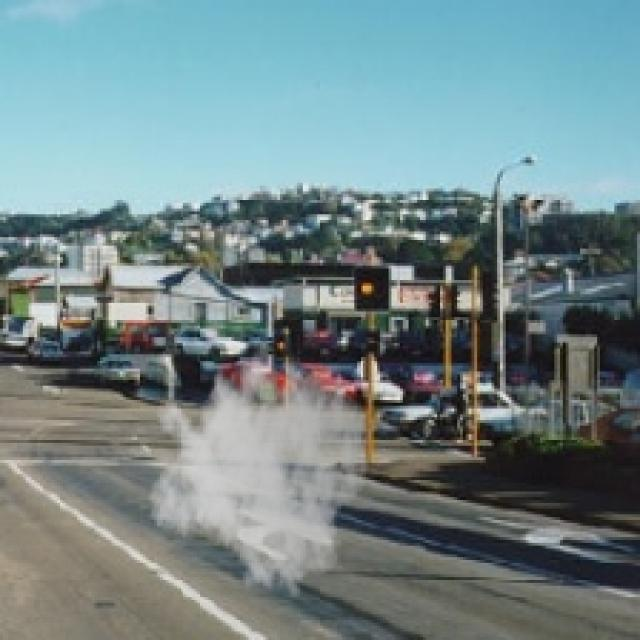smoke: (148, 323, 372, 600)
